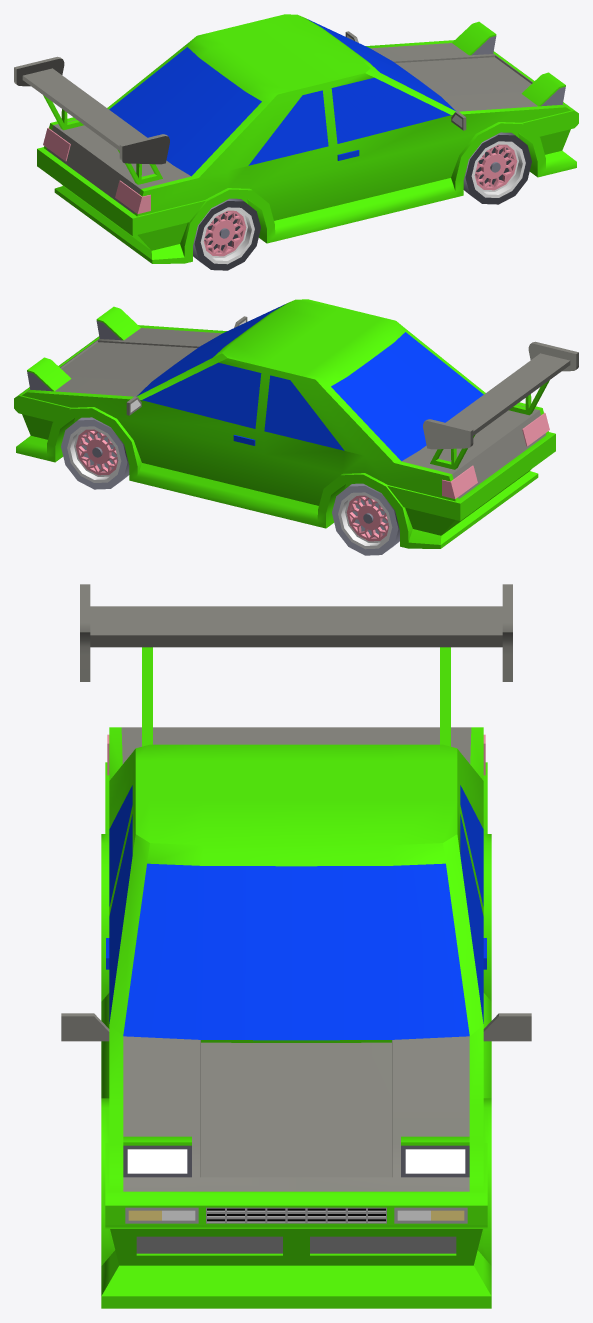
Rendered from SportGreen.gltf.
The picture shows the model from 3 angles, top to bottom: view 1: azimuth 30°, elevation 25°; view 2: azimuth 150°, elevation 25°; view 3: azimuth 270°, elevation 25°; orthographic projection. The views are drawn at different scales.
Visible parts, largest first — view 1: Cabin, Wheels/Windows, Car, Wheels, Disks 02, Disks 01, Red lights 1, Front lights body; view 2: Cabin, Wheels/Windows, Car, Wheels, Disks 02, Disks 01, Red lights 1, Front lights body; view 3: Cabin, Car, Wheels/Windows, Frame/grid, Front lights 1, Front lights body, Grid background.
Part boxes in pixels (bbox=[...]): Cabin: bbox=[37, 14, 578, 263]; Wheels/Windows: bbox=[109, 19, 456, 176]; Car: bbox=[14, 31, 565, 213]; Wheels: bbox=[193, 132, 531, 270]; Disks 02: bbox=[203, 144, 517, 256]; Disks 01: bbox=[200, 141, 525, 264]; Red lights 1: bbox=[43, 127, 150, 213]; Front lights body: bbox=[471, 36, 565, 106]; Cabin: bbox=[14, 299, 555, 548]; Wheels/Windows: bbox=[136, 304, 483, 461]; Car: bbox=[27, 316, 578, 498]; Wheels: bbox=[61, 417, 399, 555]; Disks 02: bbox=[75, 429, 389, 541]; Disks 01: bbox=[67, 426, 392, 549]; Red lights 1: bbox=[442, 412, 549, 498]; Front lights body: bbox=[27, 321, 121, 391]; Cabin: bbox=[101, 647, 491, 1308]; Car: bbox=[61, 584, 531, 1191]; Wheels/Windows: bbox=[106, 785, 486, 1040]; Frame/grid: bbox=[125, 1207, 467, 1253]; Front lights 1: bbox=[127, 1149, 465, 1173]; Front lights body: bbox=[123, 1145, 469, 1177]; Grid background: bbox=[207, 1208, 385, 1221].
Size of the model in its own units: 0.0477 by 0.0155 by 0.021.
